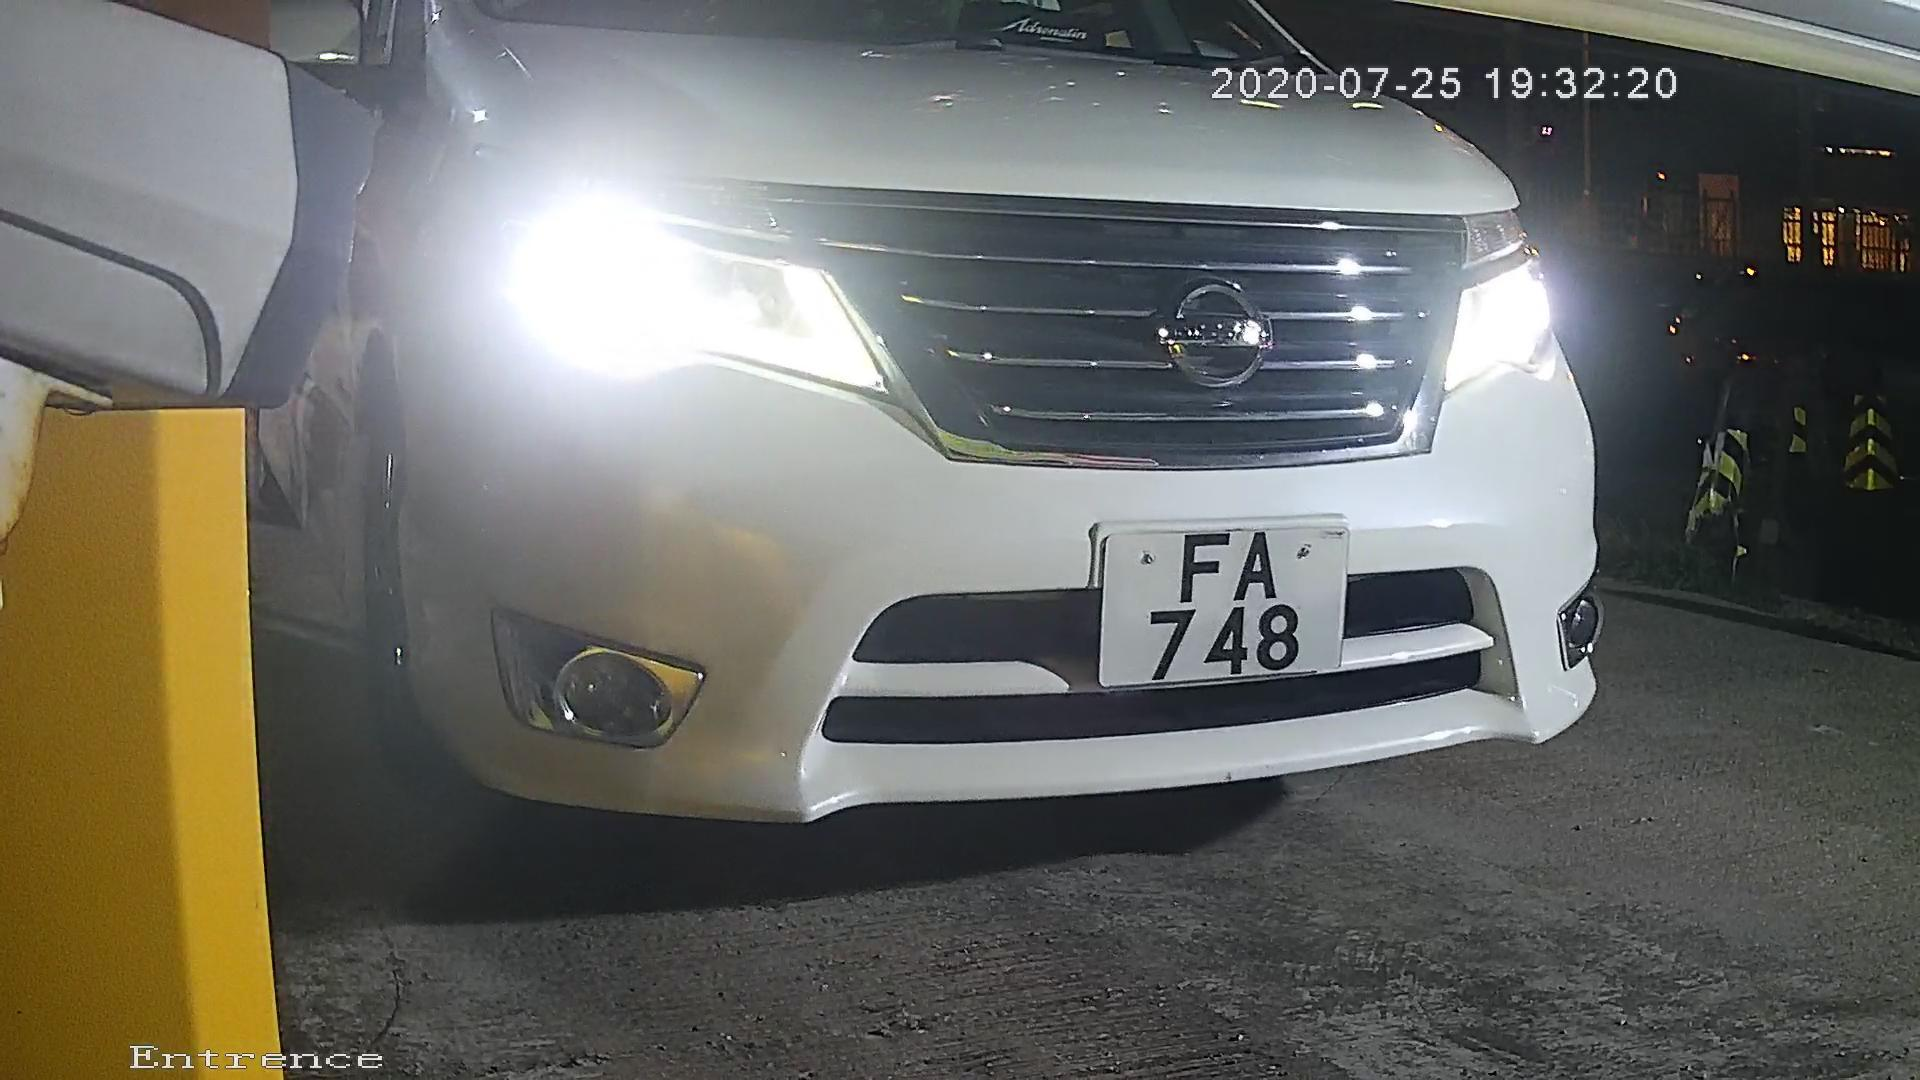privatecar: (258, 3, 1695, 926)
